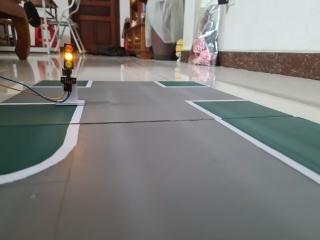yellow: (54, 36, 82, 76)
